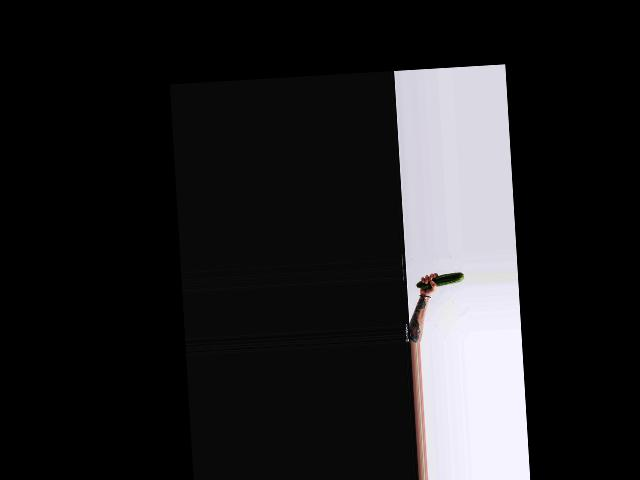cucumber: (416, 271, 464, 288)
